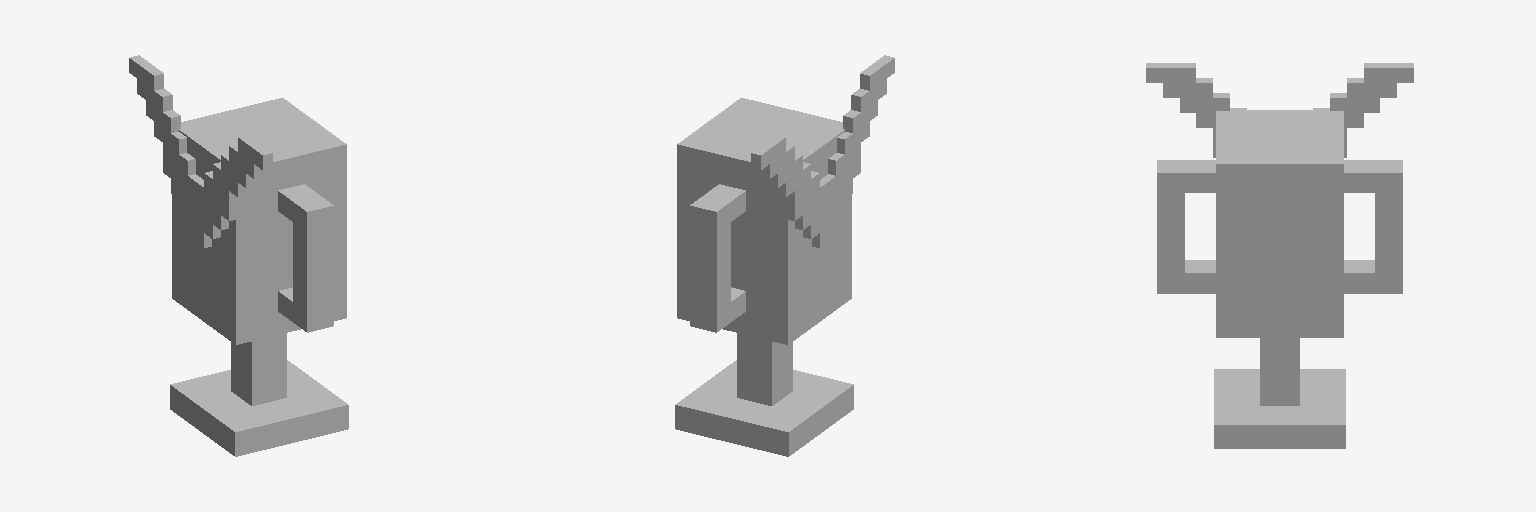
Rendered from victiniblock.obj.
3 views of the same model, side by side, from view 1: azimuth 30°, elevation 25°; view 2: azimuth 150°, elevation 25°; view 3: azimuth 270°, elevation 25° (orthographic).
Visible parts, largest first — view 1: metal; view 2: metal; view 3: metal.
Boxes of the visible parts, x1,y1,x2,y2 form: metal: [129, 55, 348, 456]; metal: [675, 55, 894, 456]; metal: [1146, 63, 1413, 448].
Size of the model in its own units: 0.5066 by 1.32 by 0.9769.